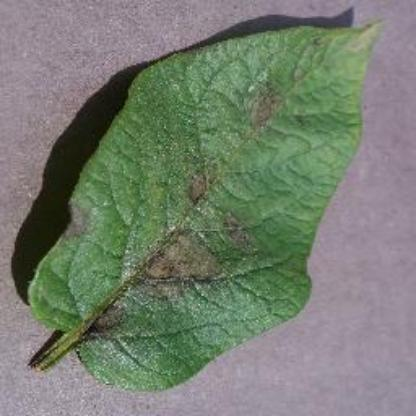Late-Blight: (23, 13, 383, 395)
